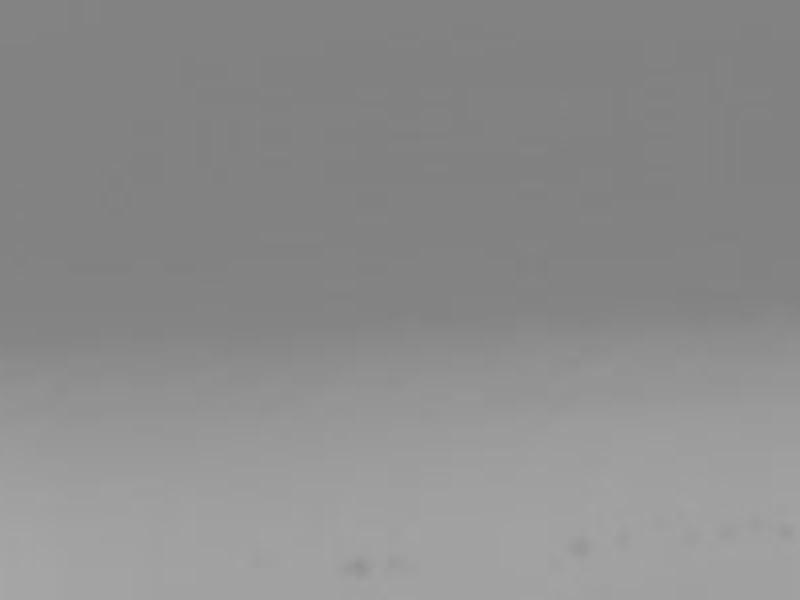defect: (345, 555, 377, 580), (715, 519, 739, 550), (776, 517, 800, 545), (570, 533, 592, 557), (611, 529, 633, 549)
